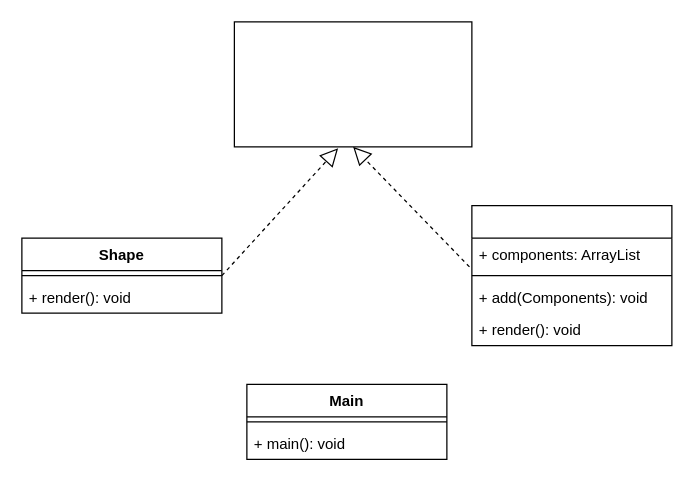
This 694x485 diagram has some shape labels left out. Here are the shapes that lost their labels. From the top down, the box of each, then its label:
(233, 21, 472, 147): <<Interface>> Components + render(Type): void
(471, 204, 672, 346): Group
